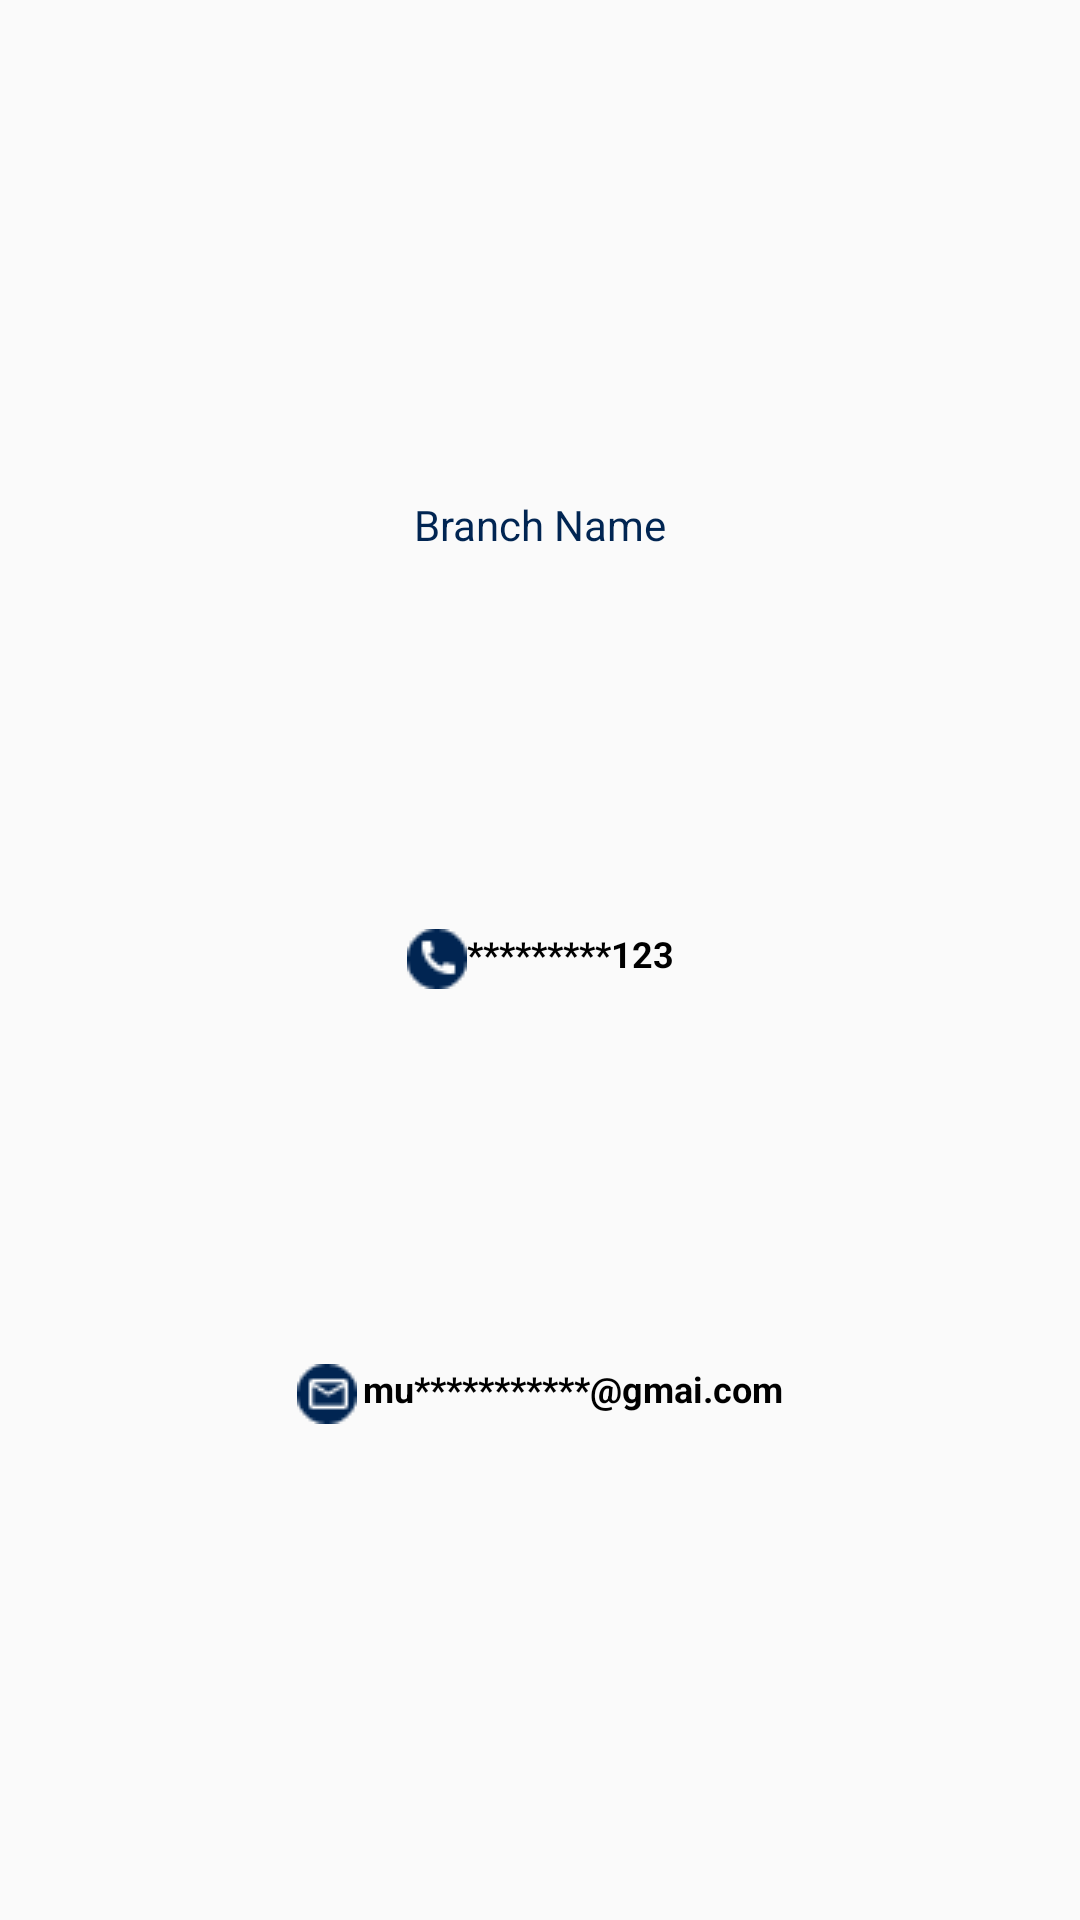

Locate icon controls on the screen. Image size 1080 x 1920, boxes as (x1, y1, x2, y2).
emailicon: (297, 1364, 357, 1424)
phoneicon: (407, 929, 467, 989)
